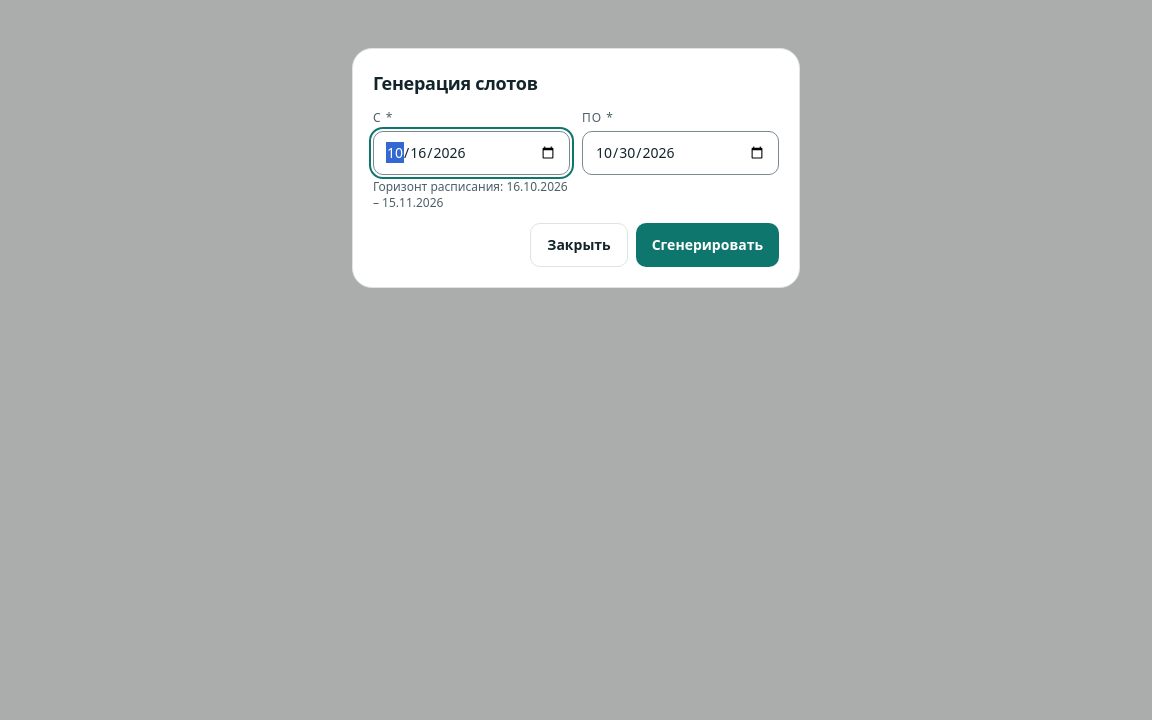
Test case: SlotGenerationDialog › should post {from, to} with an Idempotency-Key to the schedule and report generated and skipped when the form is sent
Click the button "Сгенерировать". click: (707,245)
box: [636, 223, 779, 267]
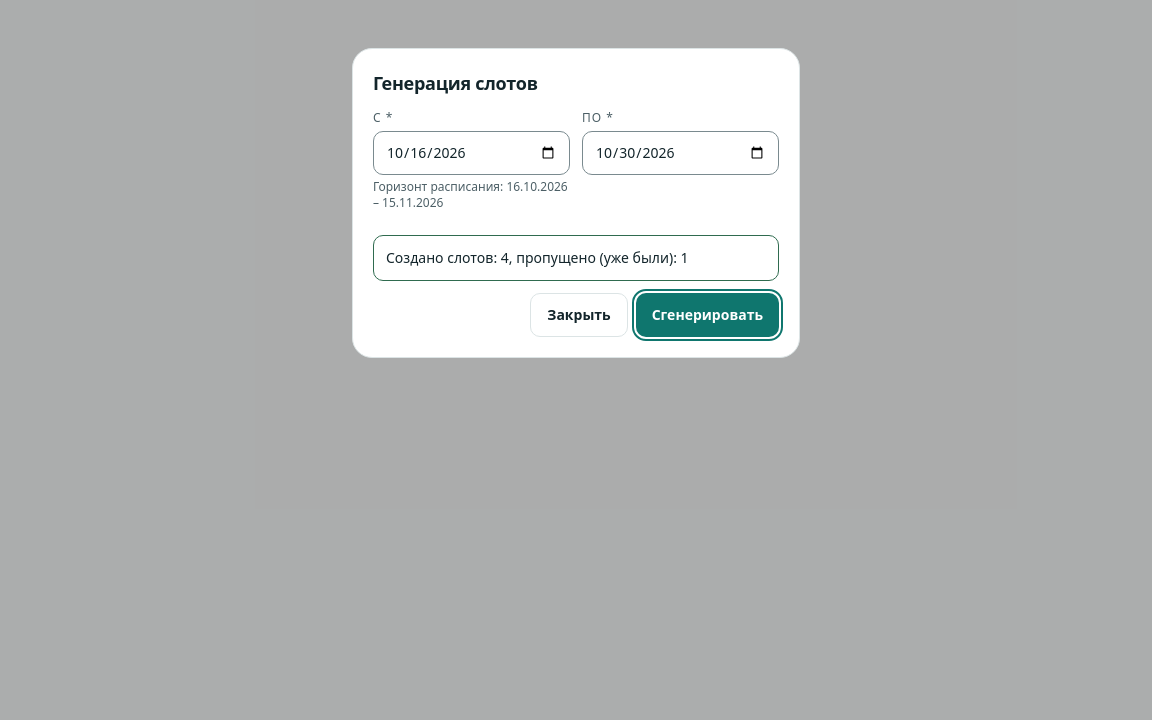
Check: the message with test id "generation-result" reads "Создано слотов: 4, пропущено (уже были): 1", box [386, 248, 689, 267]
